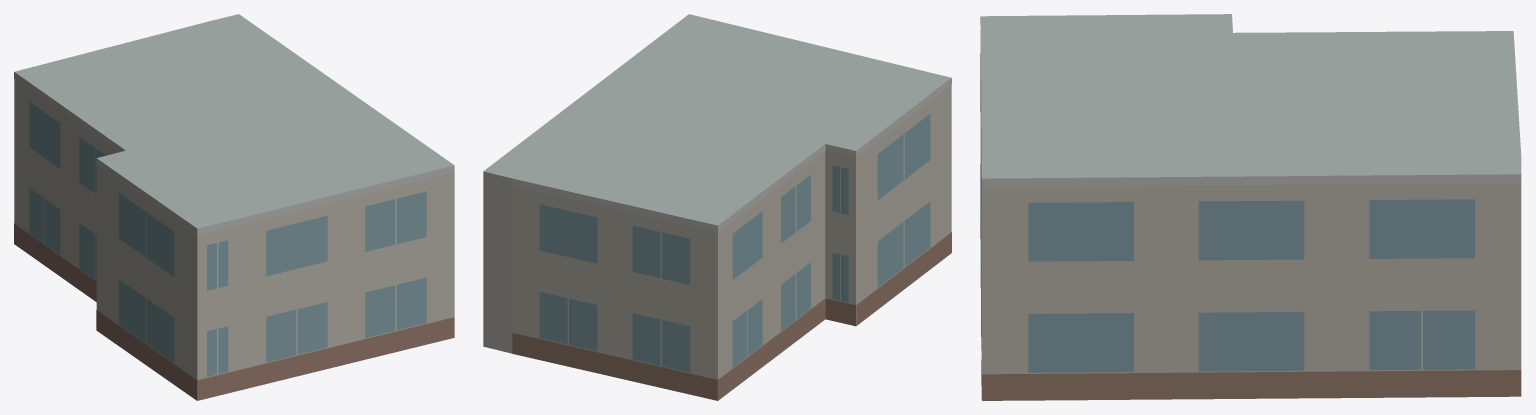
File: survey-upis-32718334.glb
3 views of the same model, side by side, from view 1: azimuth 30°, elevation 25°; view 2: azimuth 150°, elevation 25°; view 3: azimuth 270°, elevation 25° (orthographic). The views are drawn at different scales.
Parts seen in each view (by area): view 1: survey-upis-32718334.tmp; view 2: survey-upis-32718334.tmp; view 3: survey-upis-32718334.tmp.
Boxes of the visible parts, bbox=[...] form: survey-upis-32718334.tmp: bbox=[14, 14, 454, 400]; survey-upis-32718334.tmp: bbox=[483, 14, 951, 400]; survey-upis-32718334.tmp: bbox=[980, 14, 1521, 400].
Bounding box in the file's own units: 9.69 × 6.1 × 13.46.
